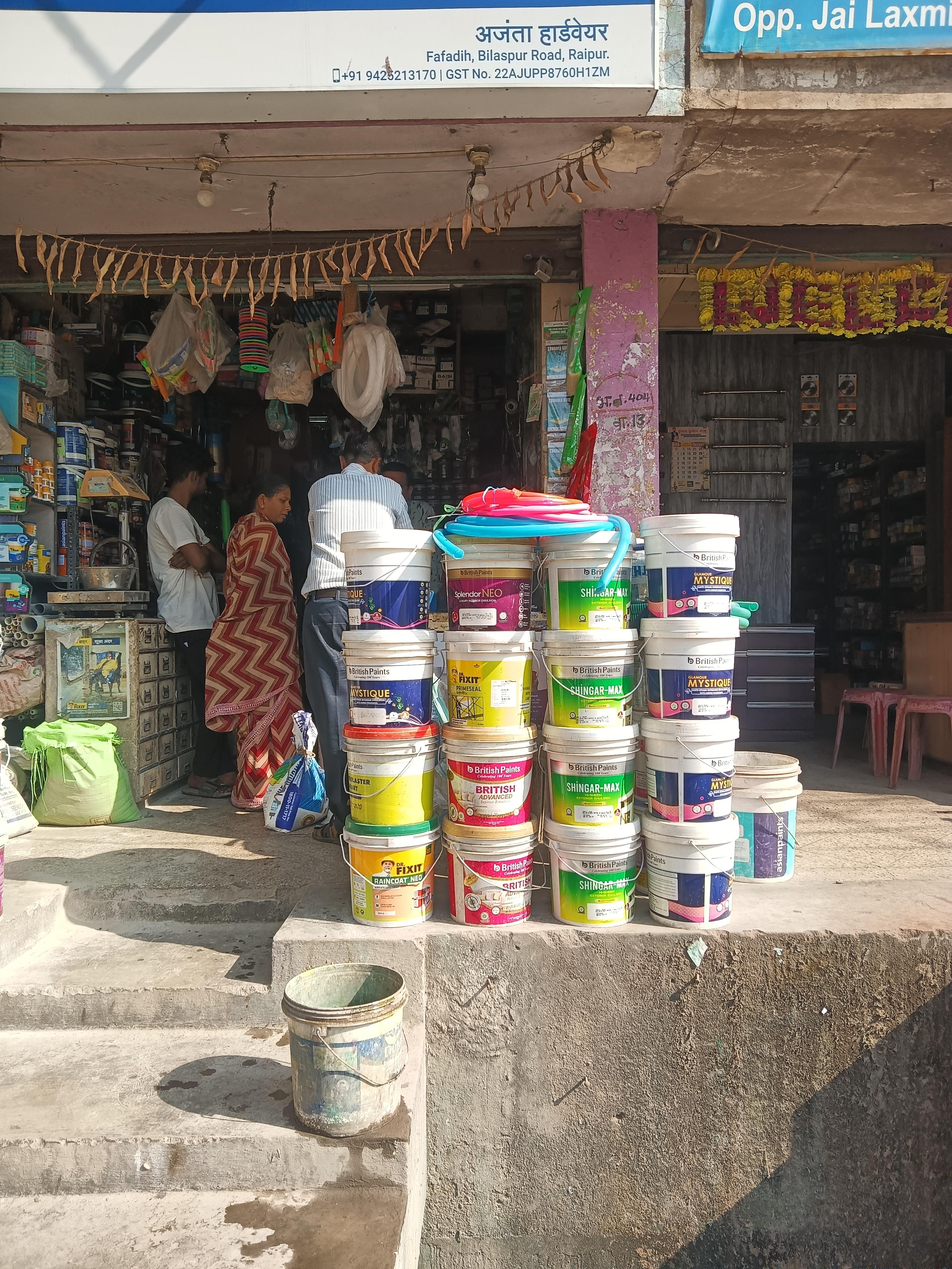poster: (2, 4, 952, 148)
